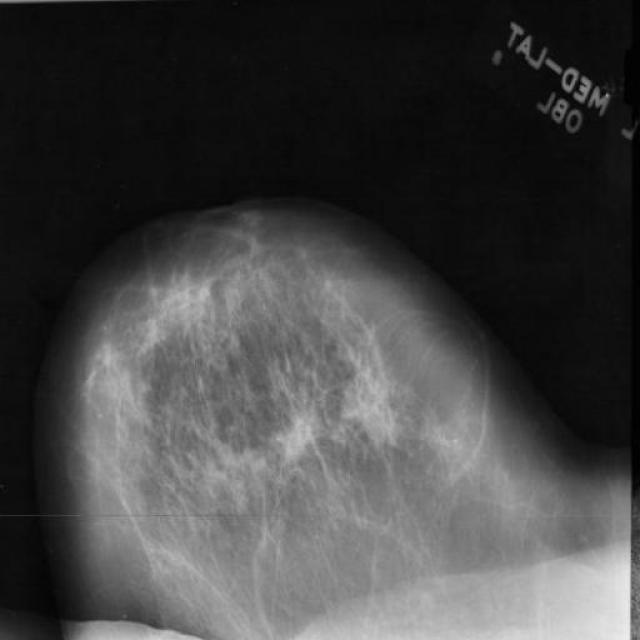cancer: (275, 408, 329, 467)
